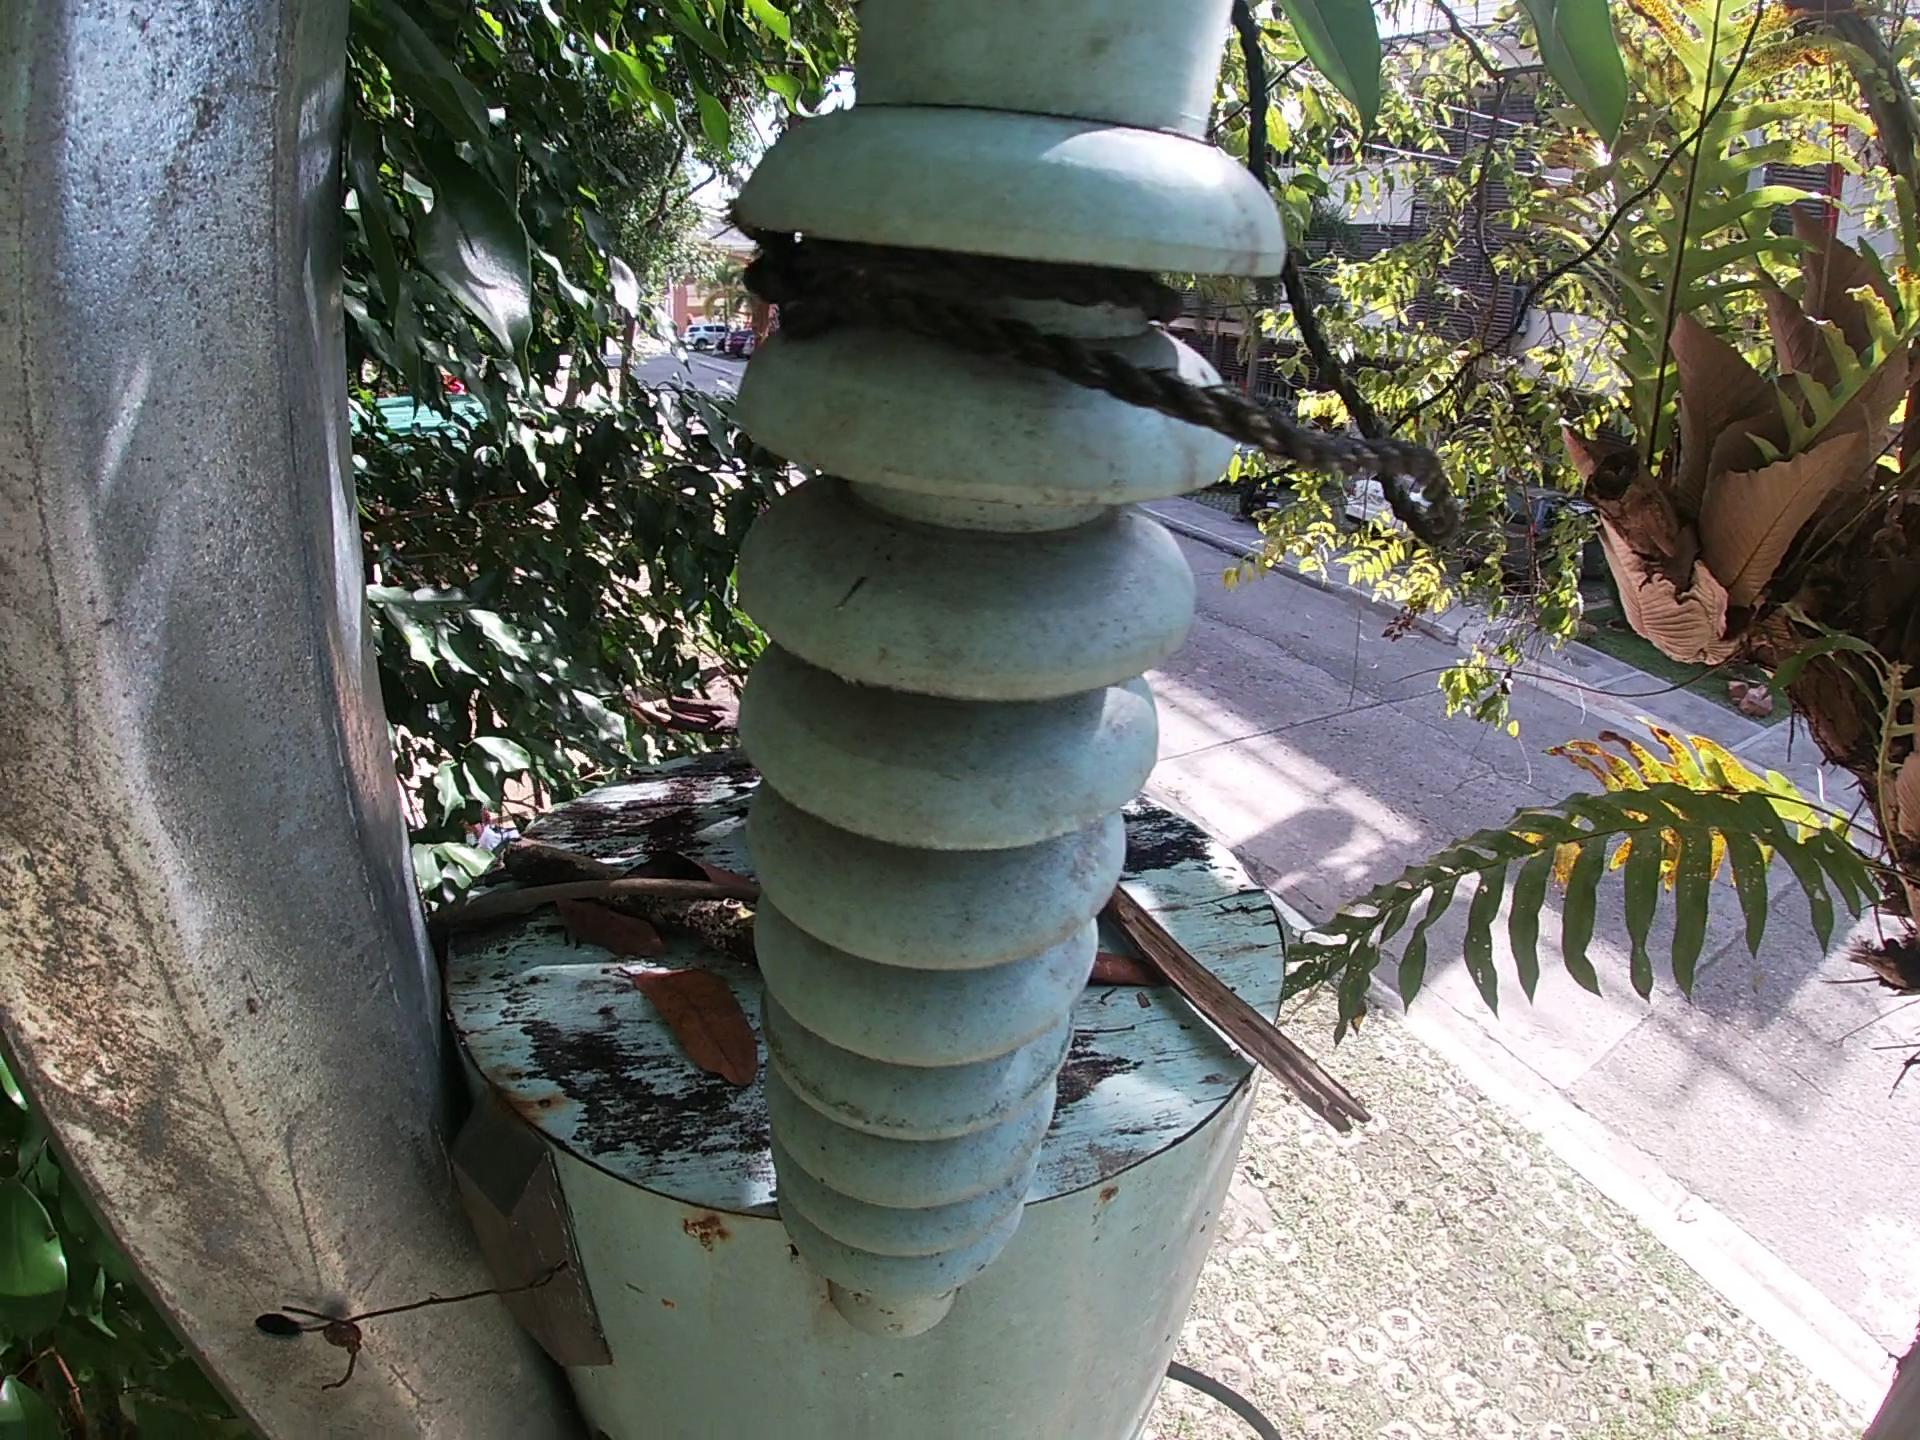leaf: (620, 962, 759, 1101), (552, 895, 670, 962), (618, 850, 762, 898)
tree branch: (1099, 880, 1374, 1144), (500, 835, 765, 959), (423, 871, 762, 944), (652, 691, 745, 744)
